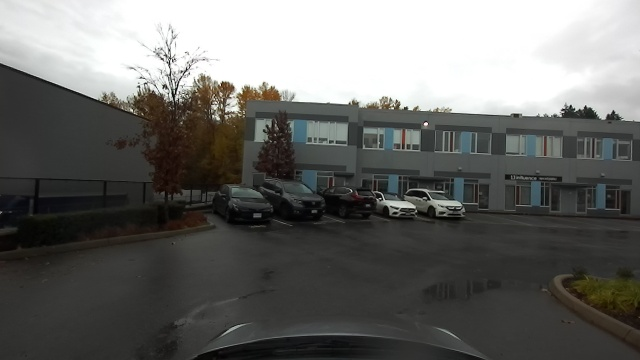car: (214, 183, 272, 227), (274, 182, 324, 222), (418, 188, 465, 223), (328, 186, 377, 217), (375, 189, 417, 217)
